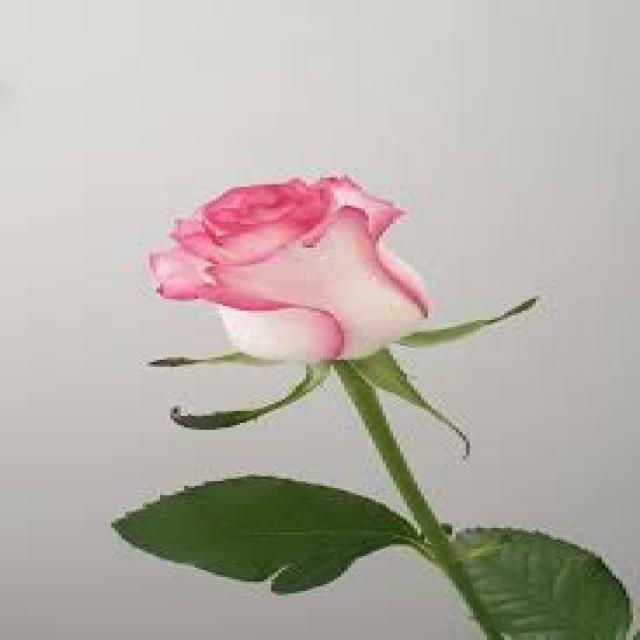rose: (130, 161, 495, 395)
